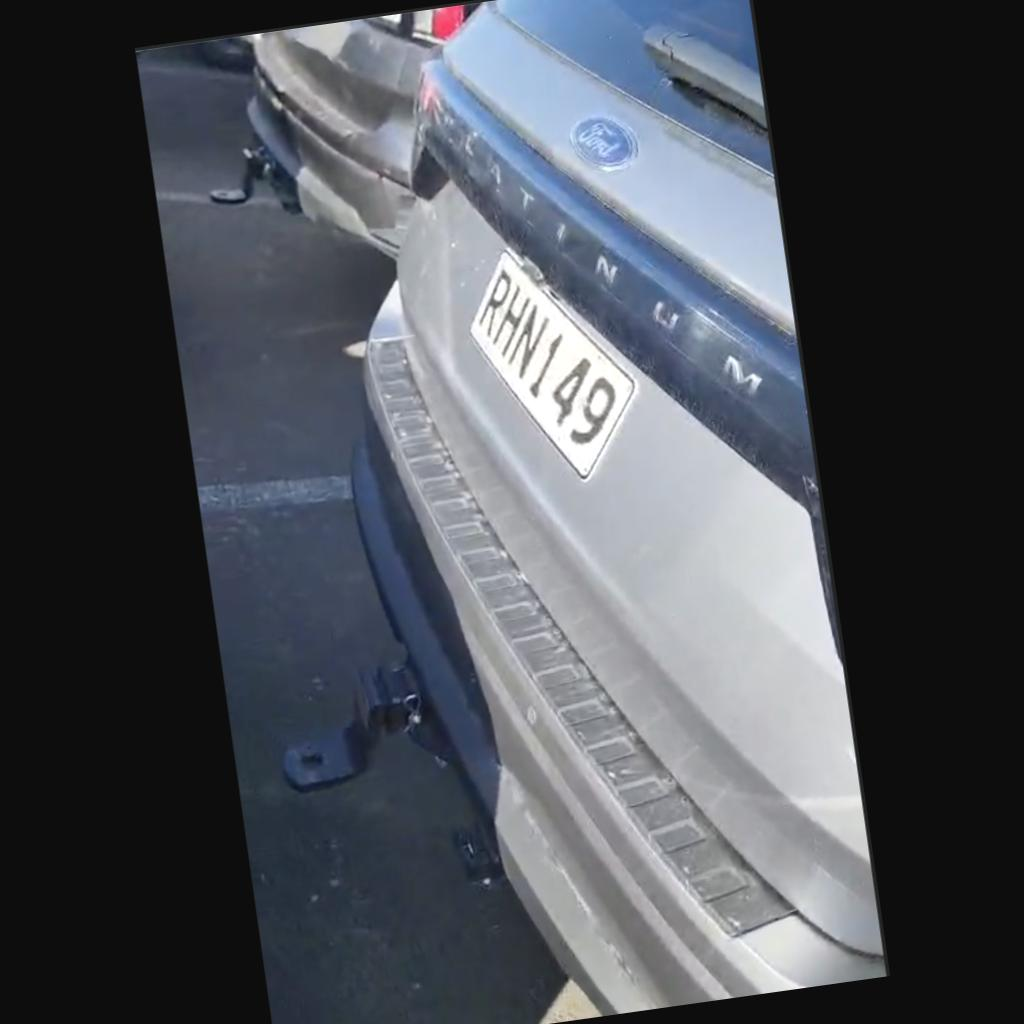Number-Plates: (460, 245, 646, 495)
